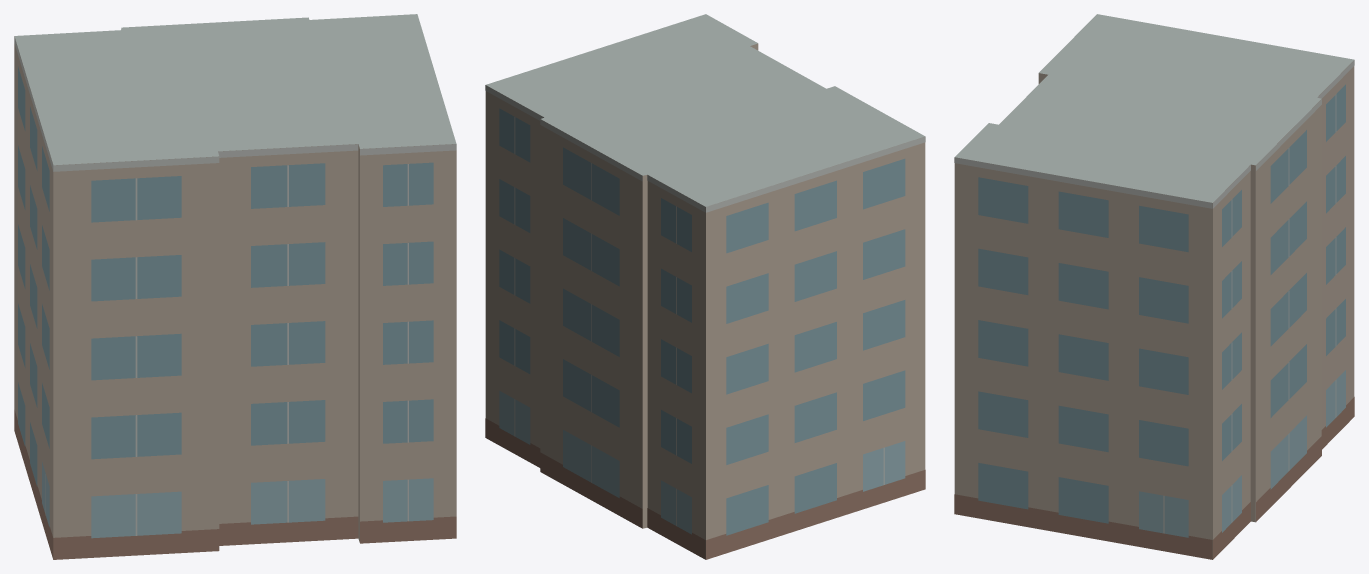
File: survey-upis-32489783.glb
The picture shows the model from 3 angles, left to right: view 1: azimuth 30°, elevation 25°; view 2: azimuth 150°, elevation 25°; view 3: azimuth 270°, elevation 25°; orthographic projection. The views are drawn at different scales.
Visible parts, largest first — view 1: survey-upis-32489783.tmp; view 2: survey-upis-32489783.tmp; view 3: survey-upis-32489783.tmp.
Part boxes in pixels (x1=…): survey-upis-32489783.tmp: x1=14, y1=14, x2=456, y2=559; survey-upis-32489783.tmp: x1=485, y1=14, x2=925, y2=559; survey-upis-32489783.tmp: x1=954, y1=14, x2=1354, y2=559.
Bounding box in the file's own units: 16.62 × 14.63 × 14.87.
